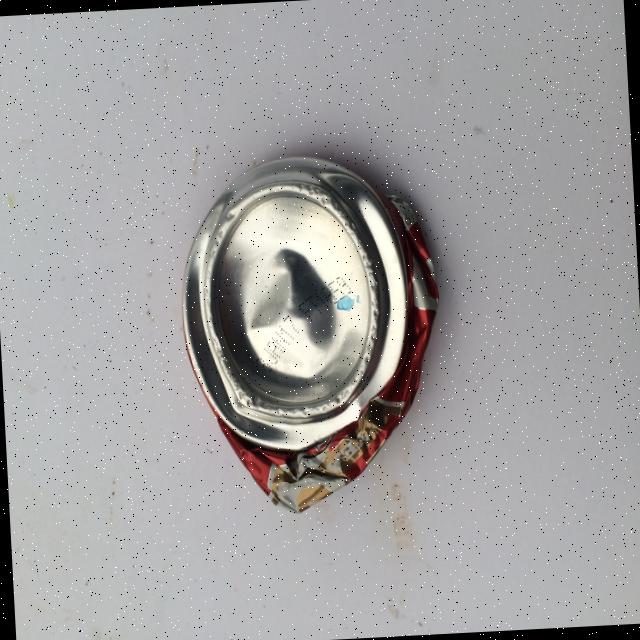metal: (173, 147, 450, 519)
